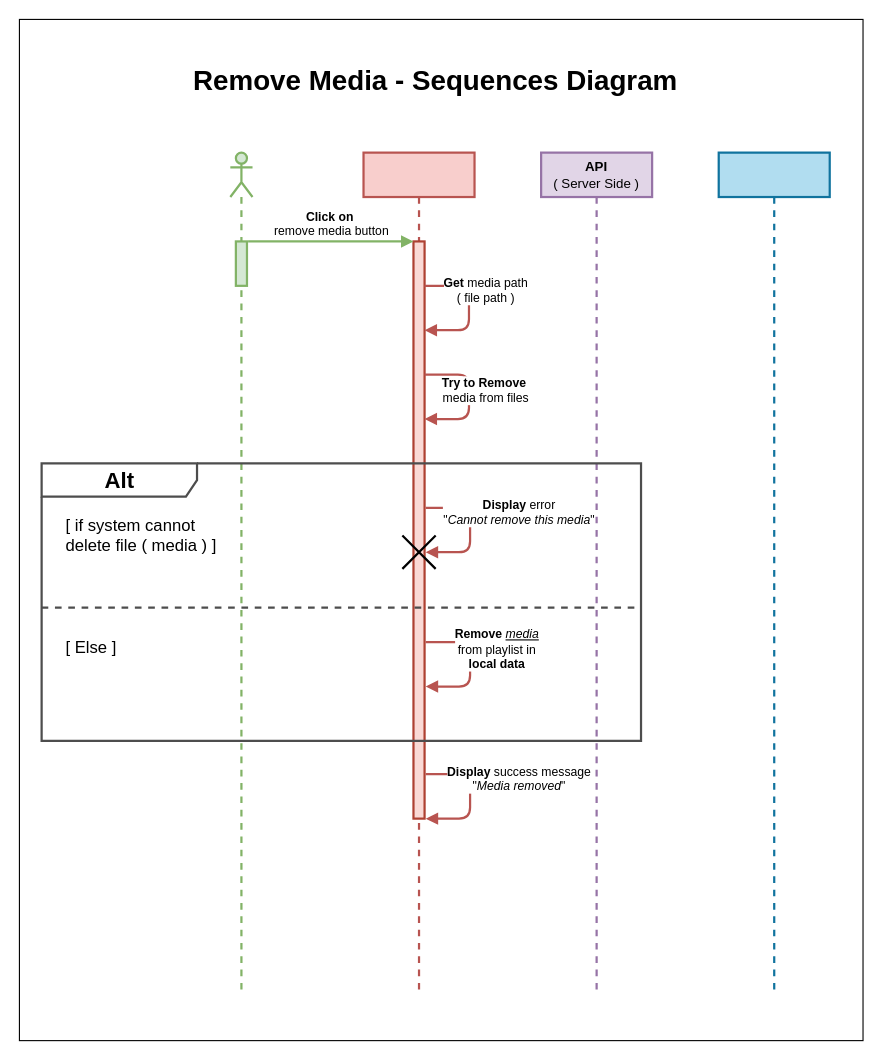
This 882x1060 diagram has some shape labels left out. Each missing label, with the box of its shape:
Python process ( pytube ): (717, 151, 830, 997)
Software ( Client Side ): (362, 151, 475, 997)
